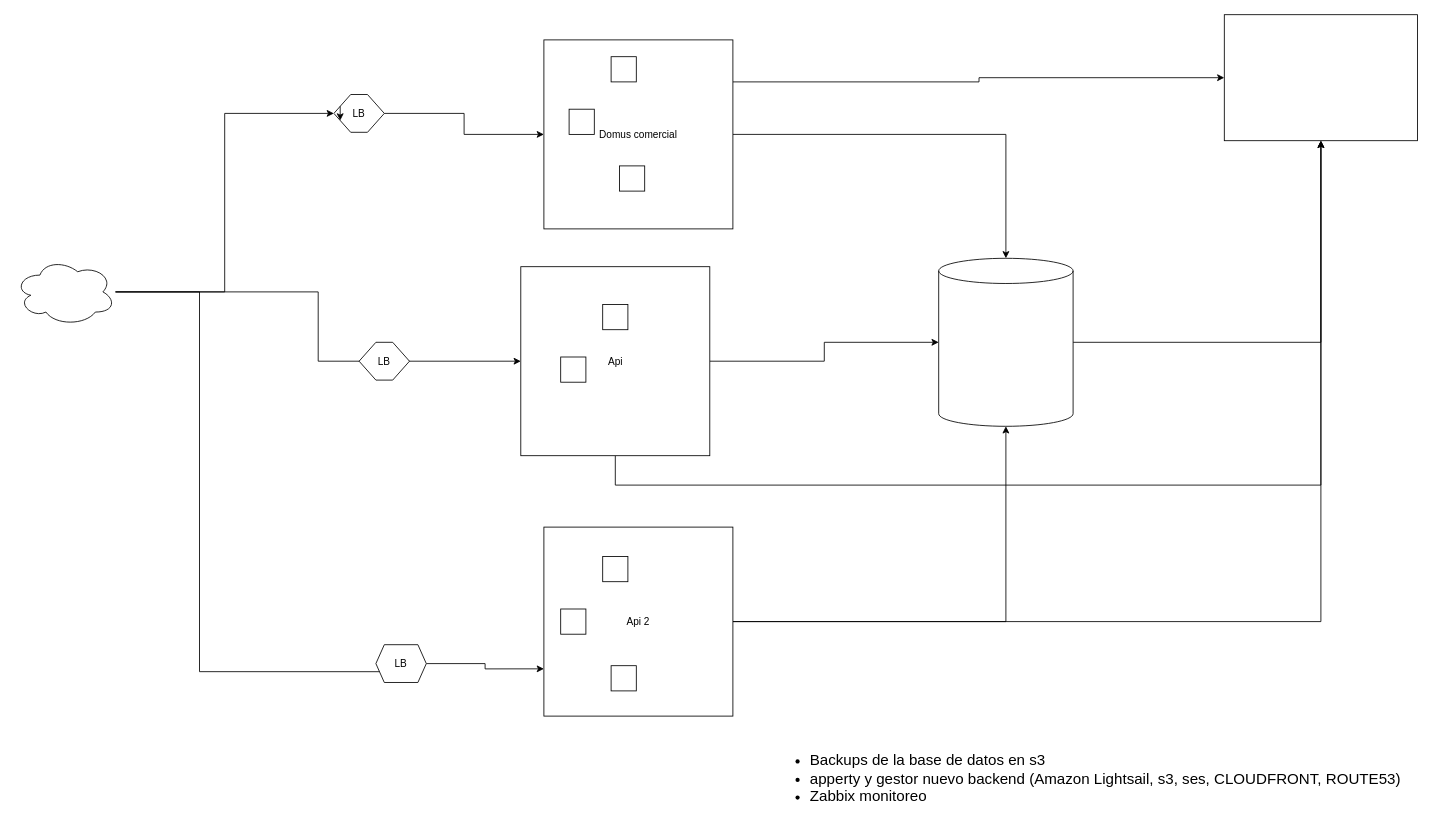
Some shapes in this 1432 by 836 pixel diagram are drawn without their labels. Here are the shapes that lost their labels. From the top down, the centre of each, then its label:
(1320,77): AWS S3 SES
(65,291): Cloudflare
(1005,341): Galera Cluster
